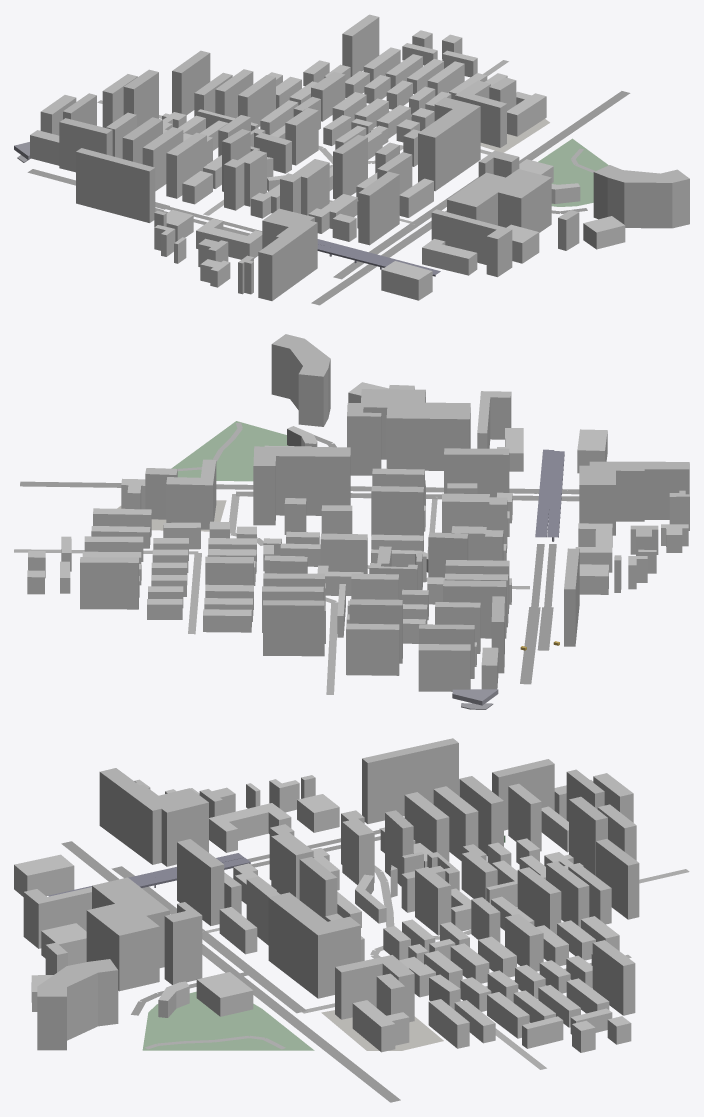
3 views of the same model, one above another, from view 1: azimuth 30°, elevation 25°; view 2: azimuth 150°, elevation 25°; view 3: azimuth 270°, elevation 25° (orthographic). The views are drawn at different scales.
Size of the model in its own units: 624 by 70.55 by 581.
